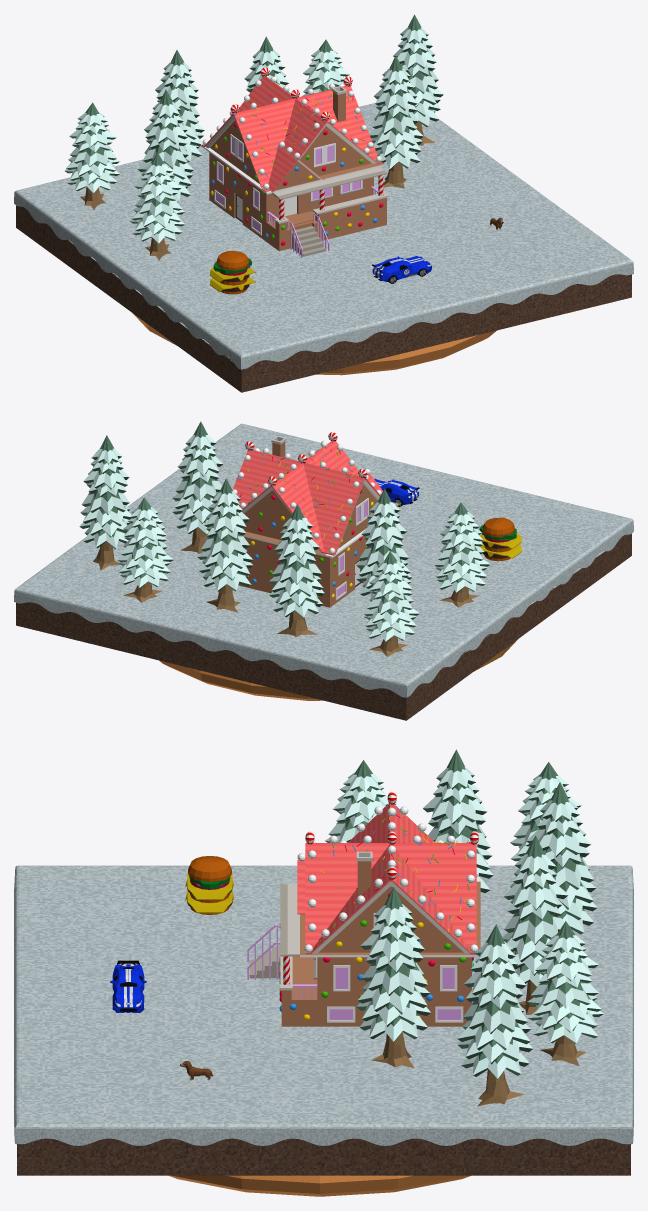
3 views of the same model, one above another, from view 1: azimuth 30°, elevation 25°; view 2: azimuth 150°, elevation 25°; view 3: azimuth 270°, elevation 25° (orthographic). The views are drawn at different scales.
Visible parts, largest first — view 1: Cube.003, Cube.1203, UNDERGROUND_PIZZA, OBJRANDOM_HAMBURGER, VEHICLES_RACING_CAR; view 2: Cube.003, Cube.1203, UNDERGROUND_PIZZA, OBJRANDOM_HAMBURGER, VEHICLES_RACING_CAR; view 3: Cube.003, Cube.1203, UNDERGROUND_PIZZA, OBJRANDOM_HAMBURGER, VEHICLES_RACING_CAR.
Boxes of the visible parts, bbox=[...] form: Cube.003: bbox=[14, 14, 633, 392]; Cube.1203: bbox=[200, 67, 389, 257]; UNDERGROUND_PIZZA: bbox=[132, 313, 496, 375]; OBJRANDOM_HAMBURGER: bbox=[210, 251, 255, 294]; VEHICLES_RACING_CAR: bbox=[372, 256, 431, 283]; Cube.003: bbox=[14, 421, 633, 720]; Cube.1203: bbox=[232, 432, 402, 607]; UNDERGROUND_PIZZA: bbox=[159, 639, 517, 700]; OBJRANDOM_HAMBURGER: bbox=[479, 517, 521, 561]; VEHICLES_RACING_CAR: bbox=[374, 479, 419, 506]; Cube.003: bbox=[14, 749, 633, 1175]; Cube.1203: bbox=[247, 791, 480, 1026]; UNDERGROUND_PIZZA: bbox=[169, 1175, 470, 1196]; OBJRANDOM_HAMBURGER: bbox=[185, 856, 233, 914]; VEHICLES_RACING_CAR: bbox=[110, 960, 146, 1012].
Size of the model in its own units: 4040 by 1904 by 4040.
Materials: 46 (4 with a texture image).
